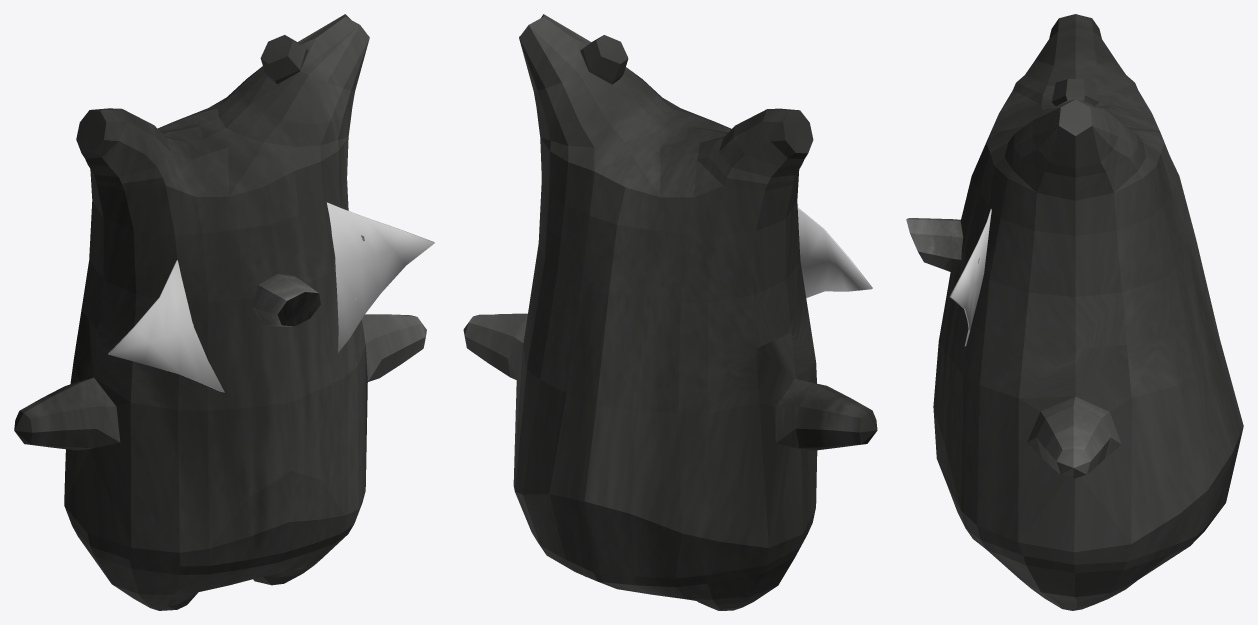
File: frame_0000.obj
3 renders of one model, left to right at view 1: azimuth 30°, elevation 25°; view 2: azimuth 150°, elevation 25°; view 3: azimuth 270°, elevation 25°, orthographic.
Visible parts, largest first — view 1: korok, leaf, nose; view 2: korok, leaf; view 3: korok, nose, leaf.
Part boxes in pixels (x1=…): korok: x1=14, y1=14, x2=426, y2=610; leaf: x1=108, y1=202, x2=434, y2=392; nose: x1=251, y1=274, x2=320, y2=327; korok: x1=463, y1=14, x2=877, y2=610; leaf: x1=797, y1=207, x2=872, y2=297; korok: x1=933, y1=14, x2=1243, y2=610; nose: x1=906, y1=218, x2=963, y2=273; leaf: x1=949, y1=209, x2=991, y2=346.
Size of the model in its own units: 1.78 by 2.25 by 1.27.
